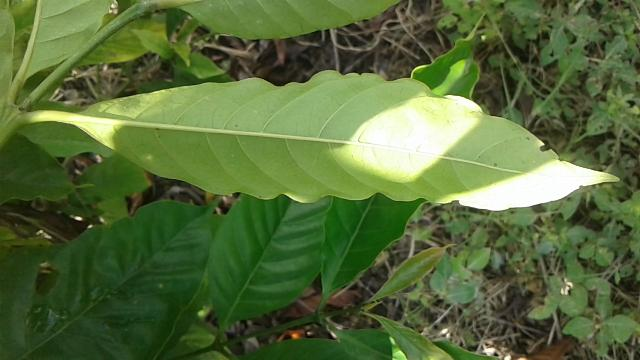rust_level_1: (73, 66, 624, 216)
